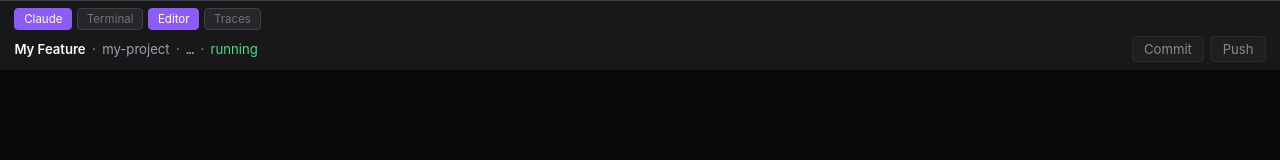
WindowDetailPane › traces pane › shows turn rows when turns loaded
Click the button "Traces".
click(232, 19)  # box [204,8,261,30]
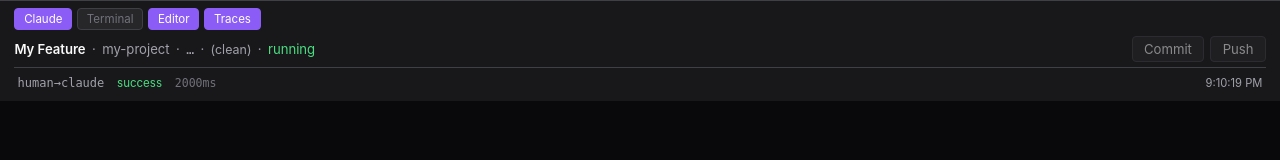
Expected: the text "human→claude" is shown, [18,76,104,90]
Expected: the text "2000ms" is shown, [175,76,216,90]
